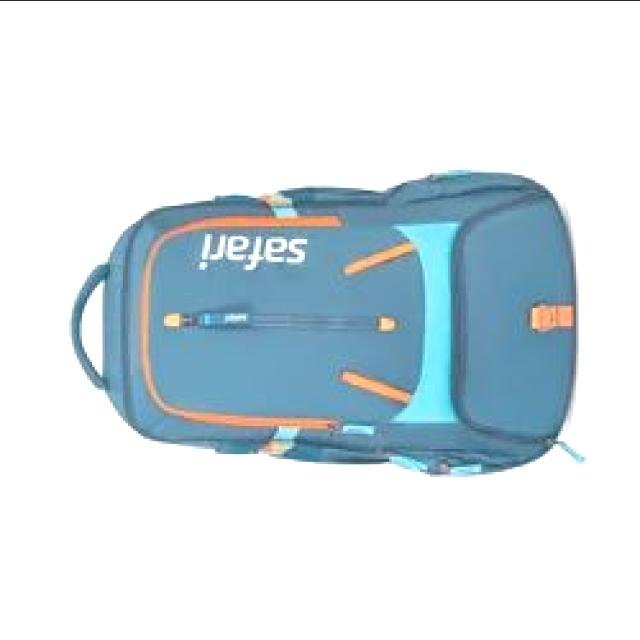backpack: (68, 170, 585, 480)
